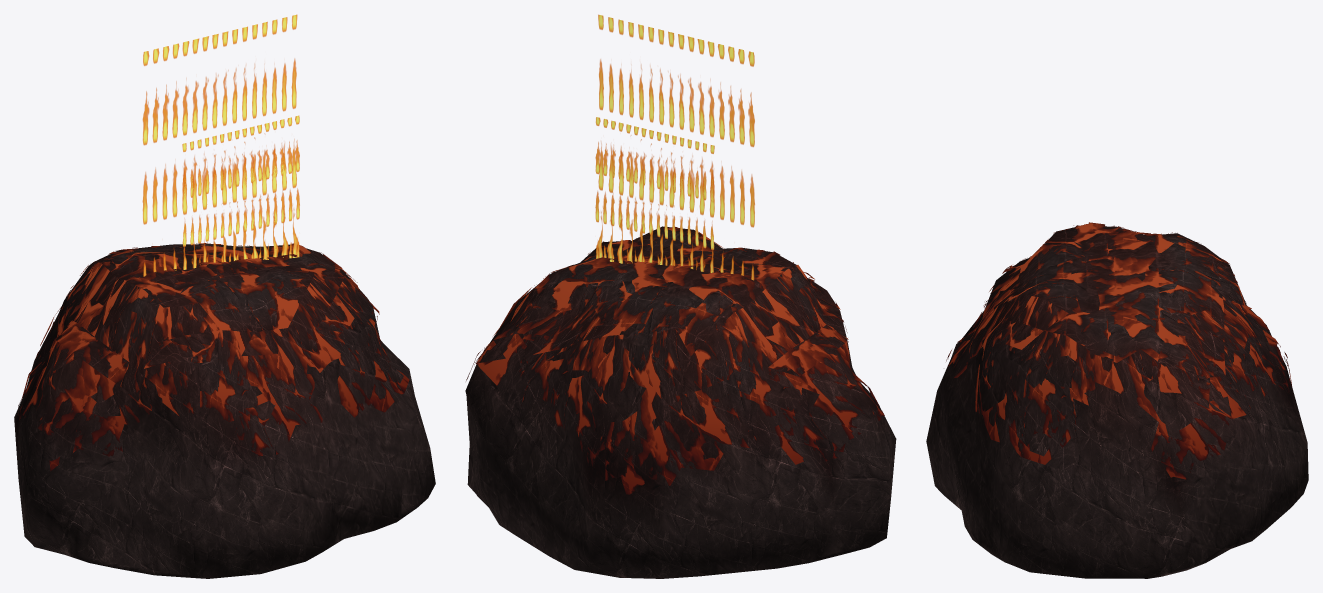
Rendered from mm6_deco_burningrock.glb.
3 views of the same model, side by side, from view 1: azimuth 30°, elevation 25°; view 2: azimuth 150°, elevation 25°; view 3: azimuth 270°, elevation 25° (orthographic). The views are drawn at different scales.
Parts seen in each view (by area): view 1: BurningRock; view 2: BurningRock; view 3: BurningRock.
Boxes of the visible parts, x1,y1,x2,y2 form: BurningRock: (14, 14, 435, 578); BurningRock: (465, 14, 896, 578); BurningRock: (926, 222, 1308, 578).
Bounding box in the file's own units: 1.85 × 2.07 × 1.63.
Materials: 3 (3 with a texture image).
